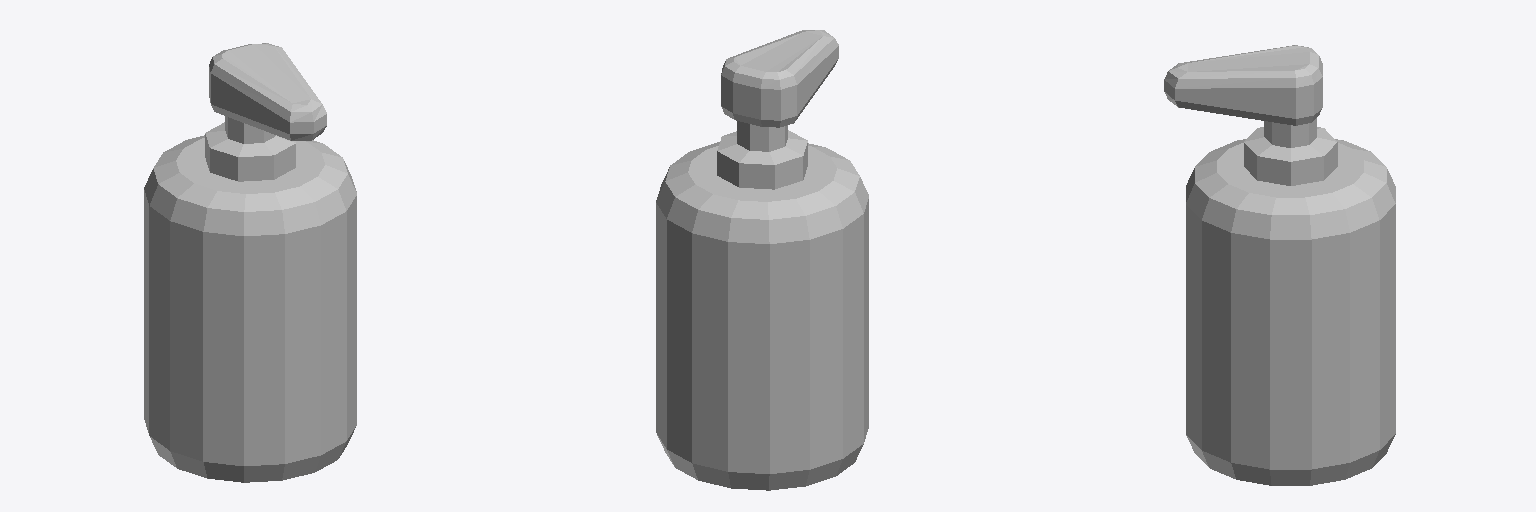
Rendered from container_bathroom_D_yellow.obj.
3 renders of one model, left to right at view 1: azimuth 30°, elevation 25°; view 2: azimuth 150°, elevation 25°; view 3: azimuth 270°, elevation 25°, orthographic.
Visible parts, largest first — view 1: container_bathroom_D_yellow; view 2: container_bathroom_D_yellow; view 3: container_bathroom_D_yellow.
Part boxes in pixels (bbox=[...]): container_bathroom_D_yellow: bbox=[144, 43, 356, 482]; container_bathroom_D_yellow: bbox=[656, 30, 868, 490]; container_bathroom_D_yellow: bbox=[1164, 45, 1395, 485].
Size of the model in its own units: 0.312 by 0.65 by 0.3445.